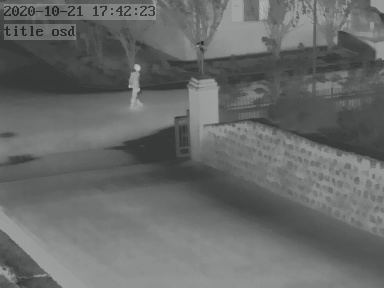person: (127, 64, 142, 104)
